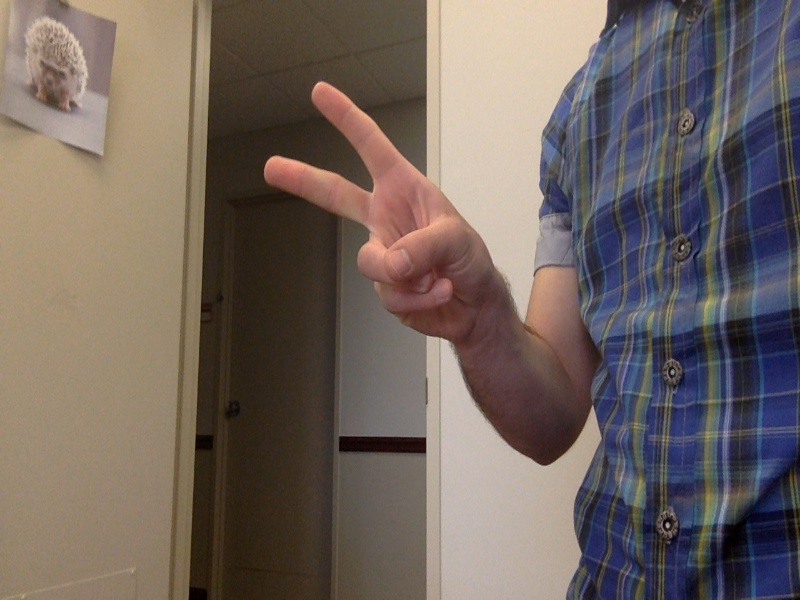2-hand: (262, 77, 494, 351)
